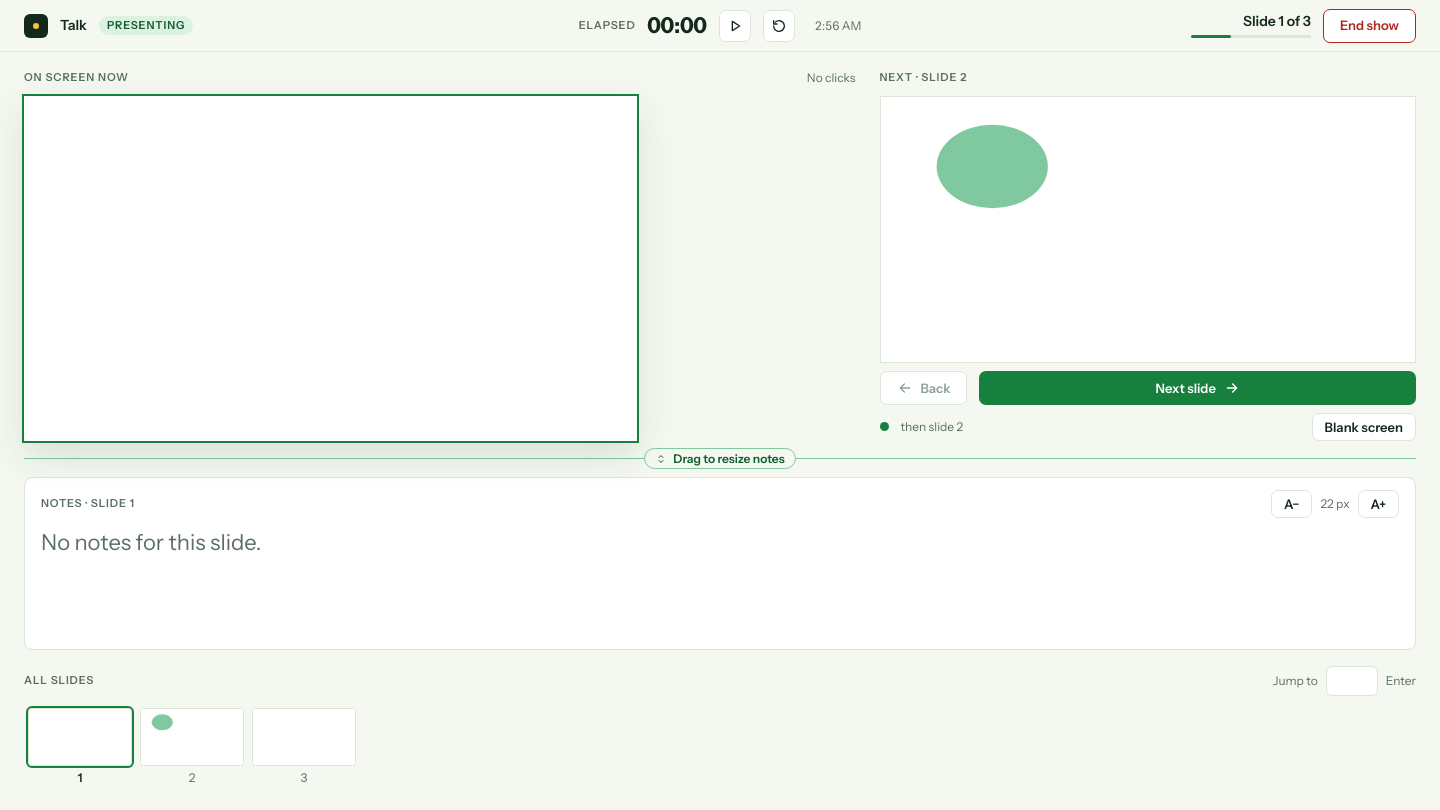
Test: the presenter view (PM-2) › Given the first place of the show, Then Back is off; after a move it steps back
Expected: the button "Back" is disabled, [880,371,967,405]
Click the button "Next slide". click: (1198, 388)
box: [979,371,1416,405]
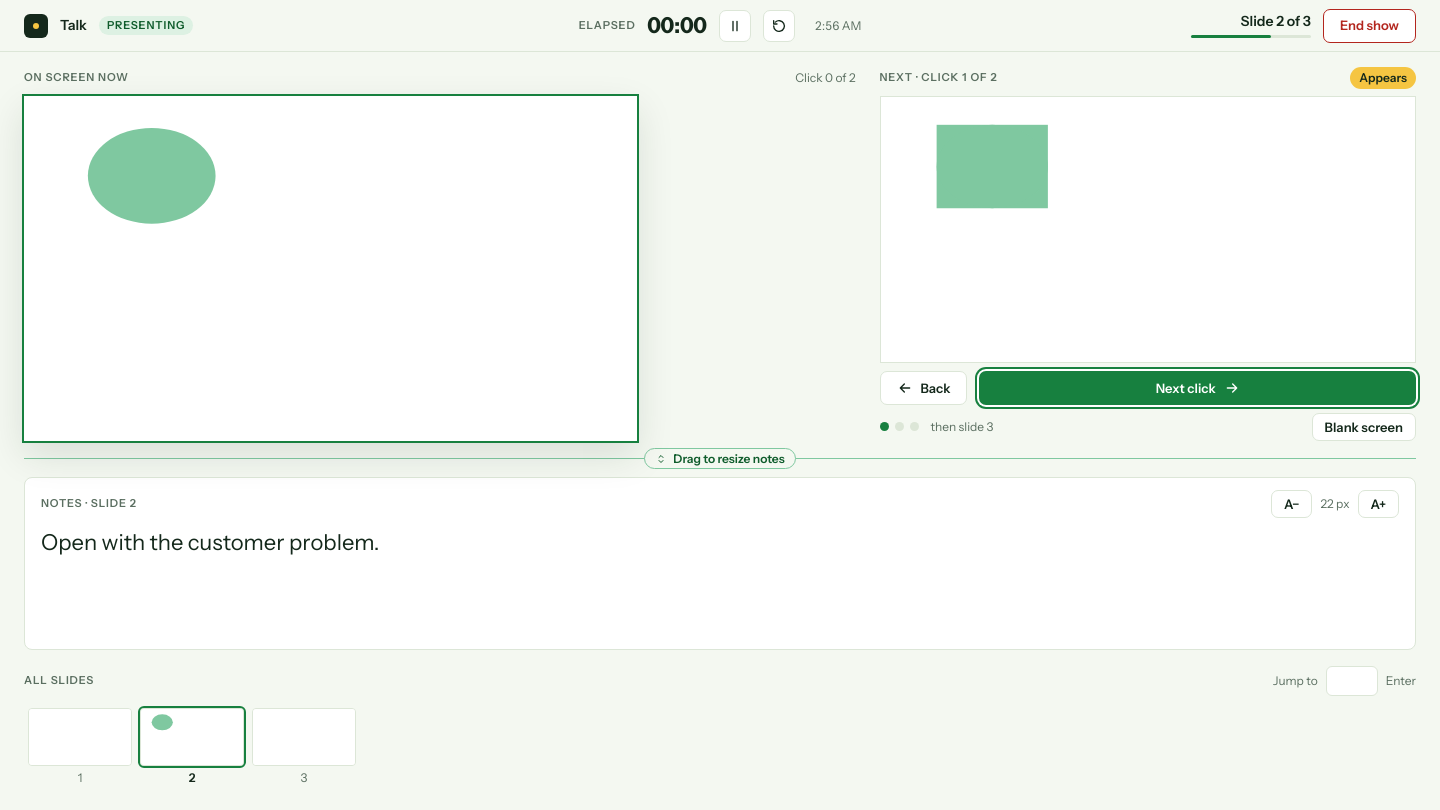
Now the text "Slide 2 of 3" is shown, box [1241,13,1311,30]
Click the button "Back". click: (923, 388)
box: [880,371,967,405]
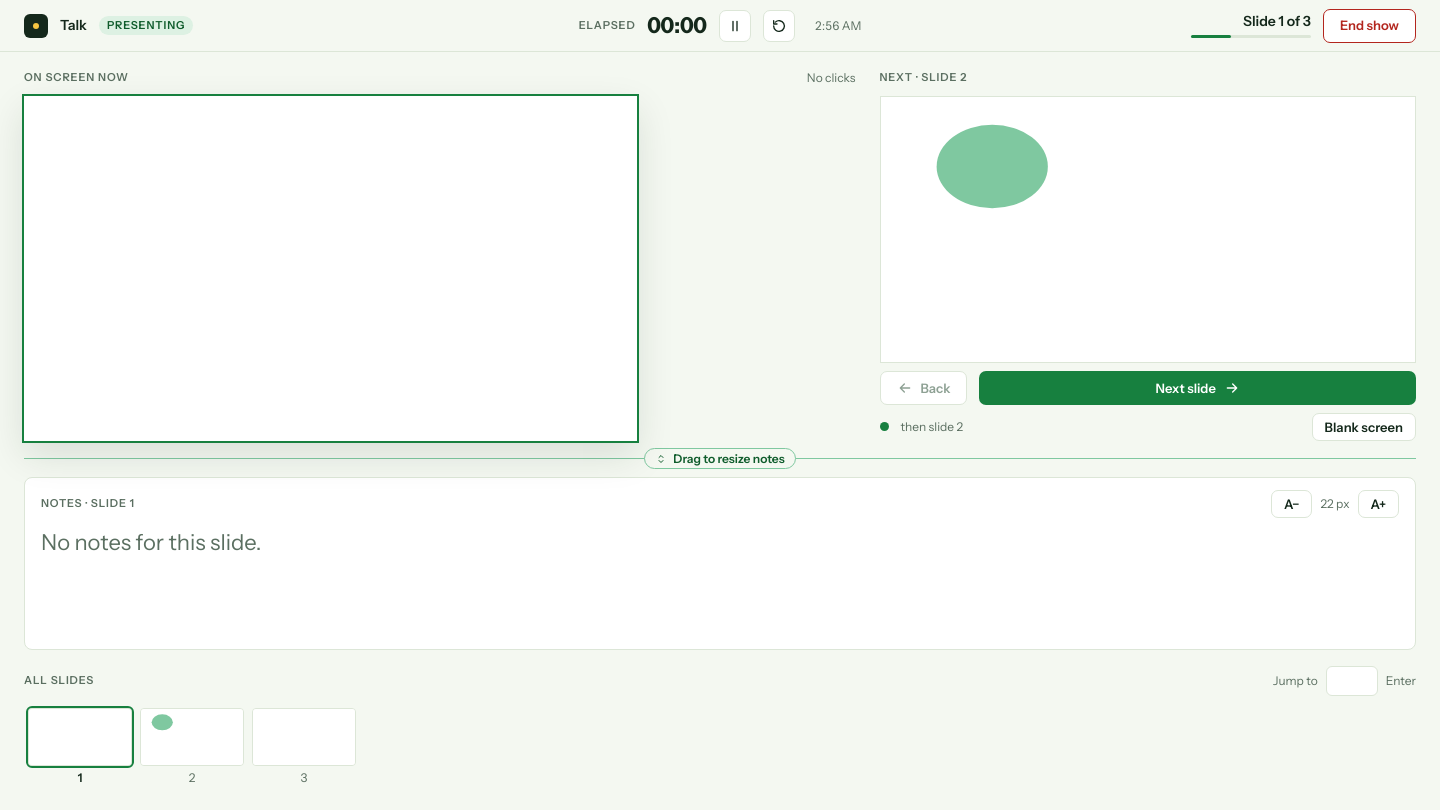
Now the text "Slide 1 of 3" is shown, box [1243,13,1311,30]
